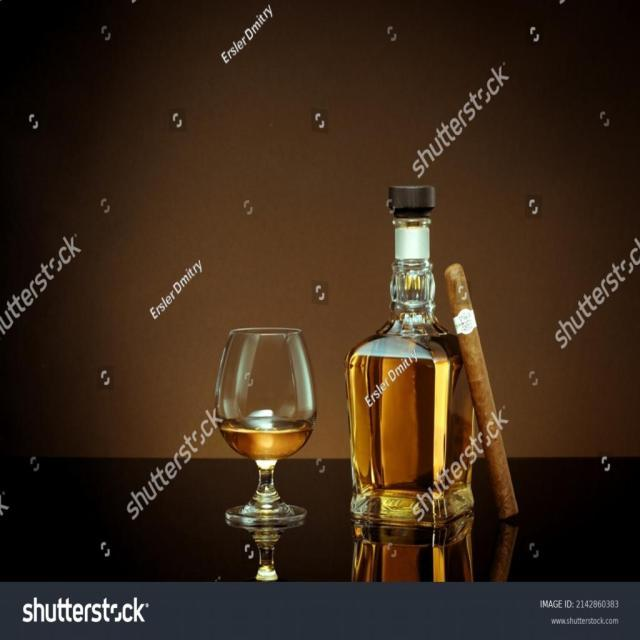smoking: (456, 323, 521, 522), (443, 262, 477, 329)
